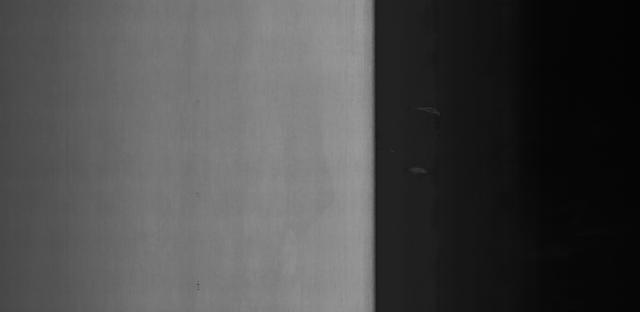inclusion: (193, 281, 203, 294)
